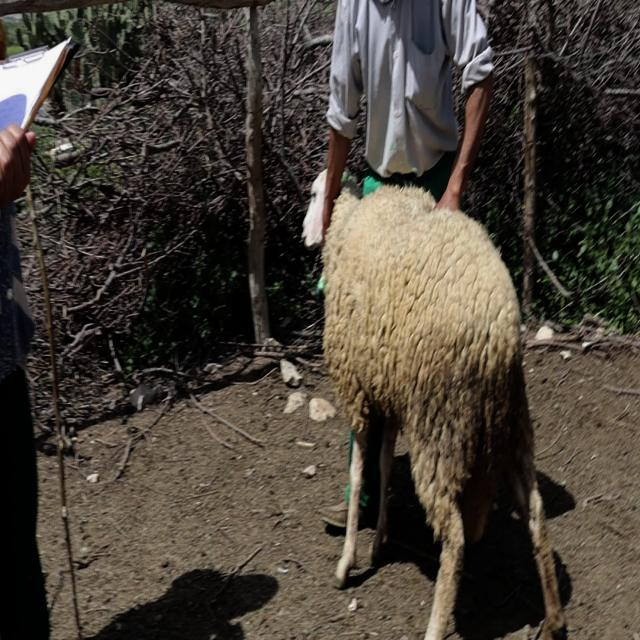Score_5: (322, 184, 564, 639)
